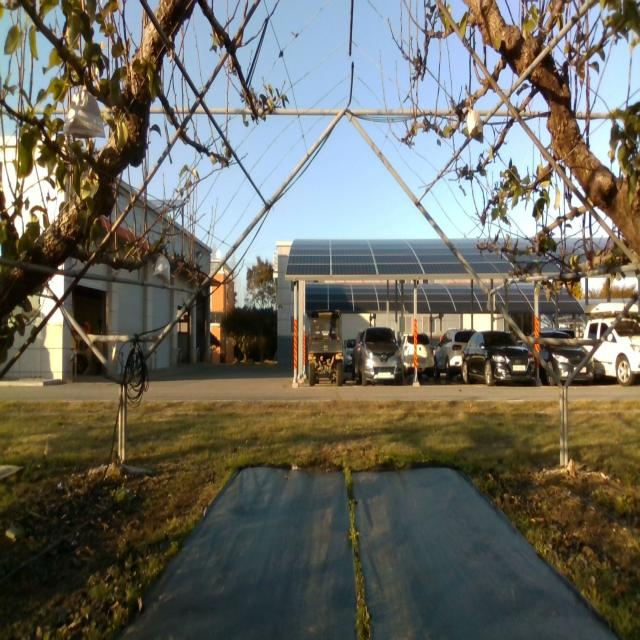pearbags: (63, 86, 105, 138), (152, 249, 170, 288), (467, 106, 484, 144)
